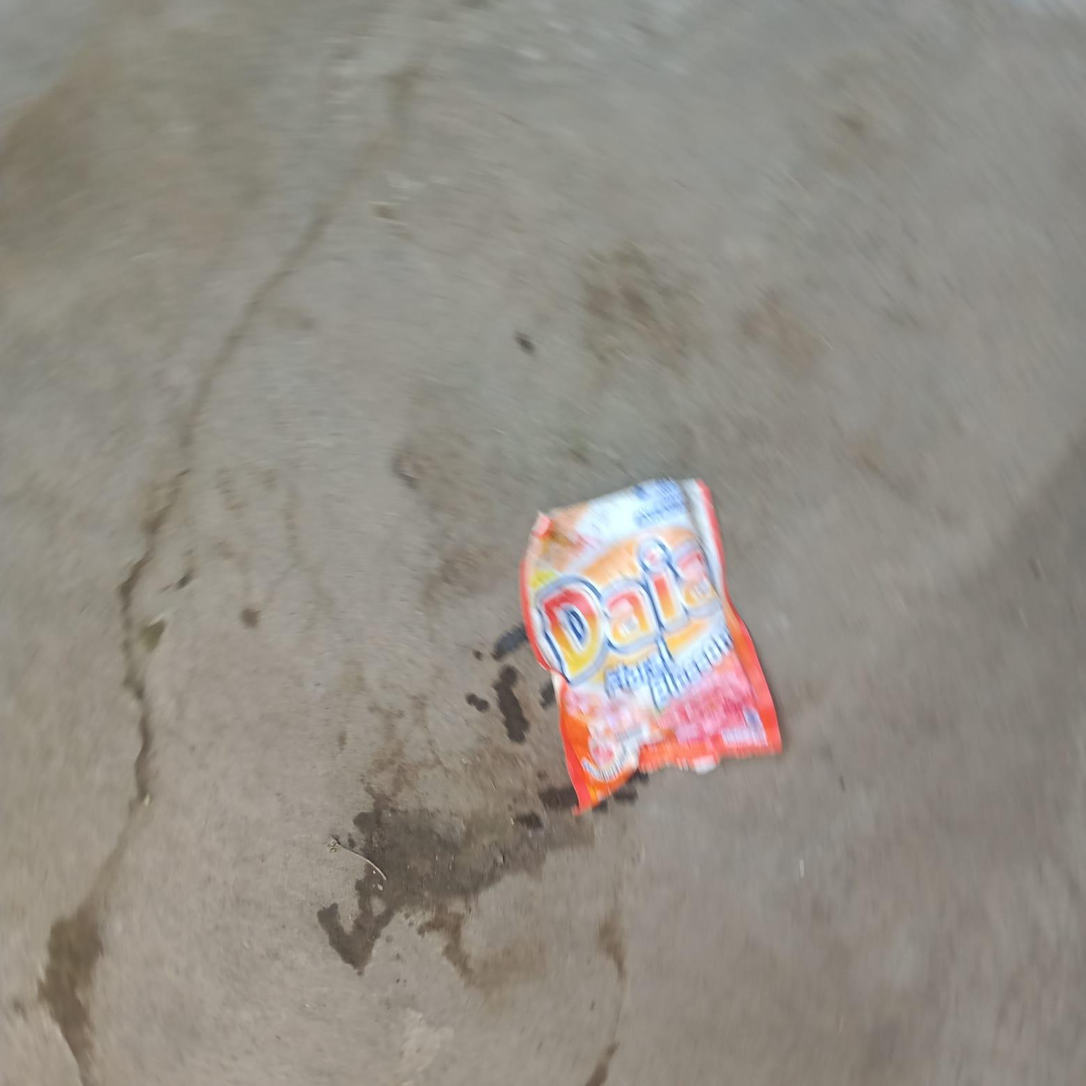Plastik: (521, 478, 785, 815)
